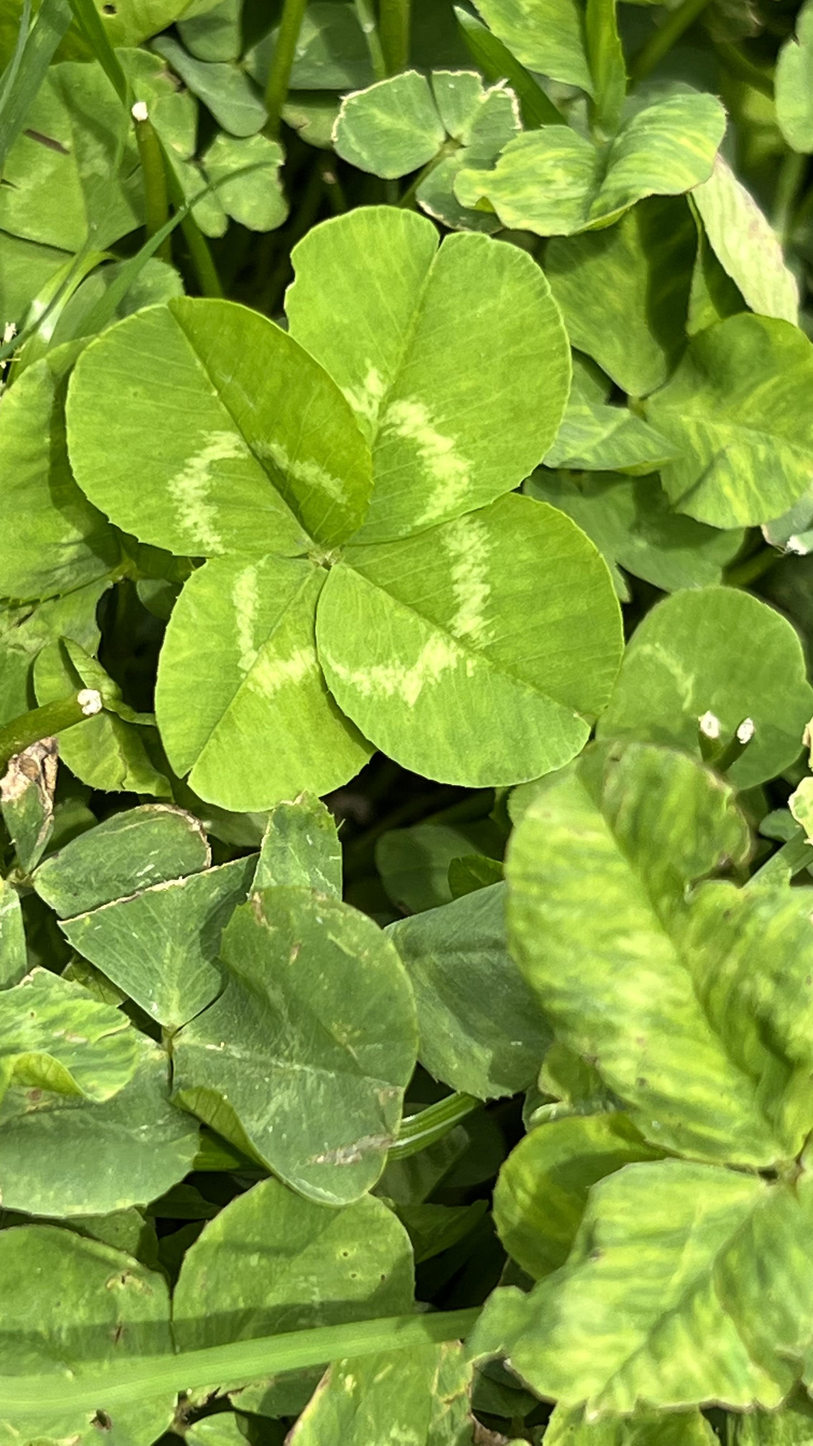4-Leaf-Clovers: (78, 206, 626, 793)
